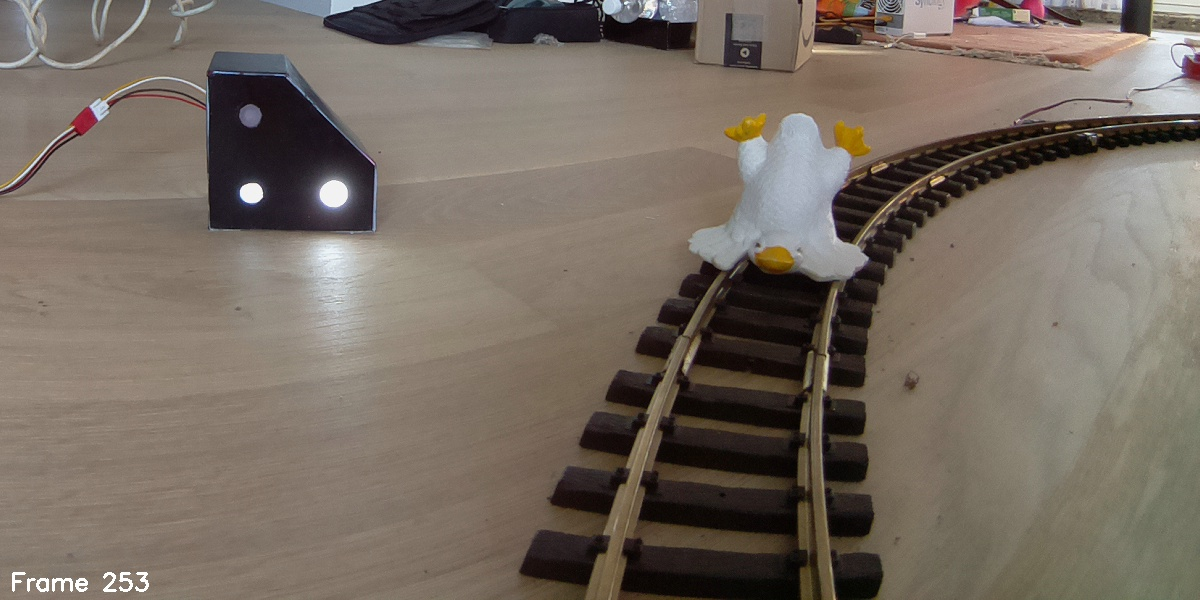Ente: (682, 112, 874, 297)
Halt: (206, 52, 378, 234)
